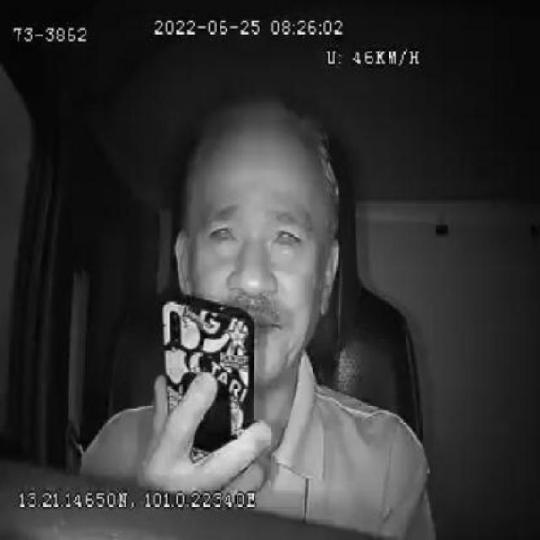phone: (156, 295, 256, 490)
